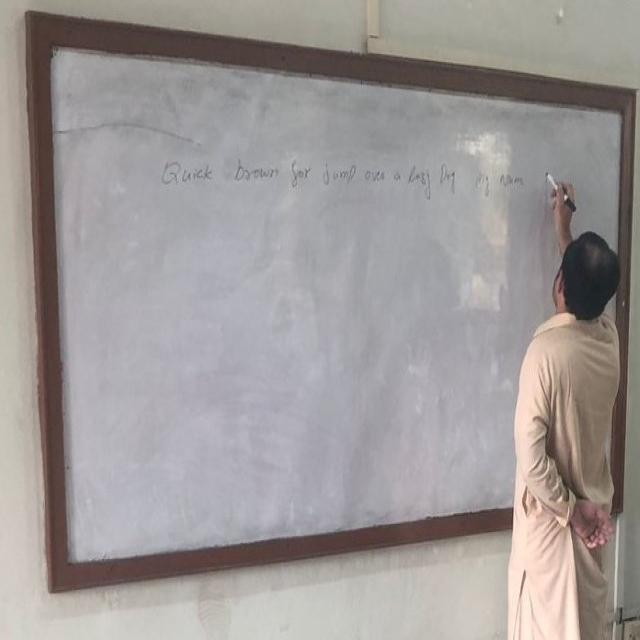Instructor: (501, 208, 627, 569)
White-board: (39, 26, 632, 579)
